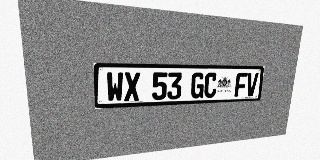3: (167, 72, 182, 100)
5: (152, 72, 168, 100)
C: (203, 72, 218, 98)
F: (234, 73, 248, 97)
G: (190, 72, 205, 99)
V: (245, 73, 259, 96)
W: (106, 72, 123, 102)
X: (124, 72, 140, 101)
